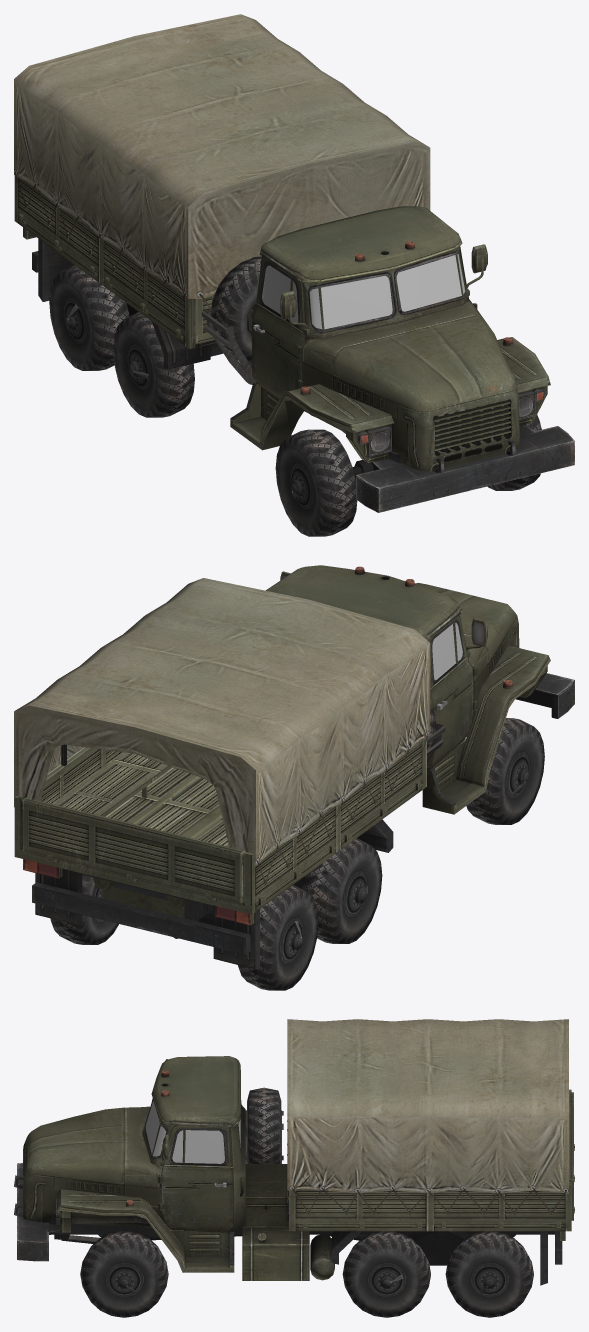
File: ural_4320.glb
The picture shows the model from 3 angles, top to bottom: view 1: azimuth 30°, elevation 25°; view 2: azimuth 150°, elevation 25°; view 3: azimuth 270°, elevation 25°; orthographic projection. The views are drawn at different scales.
Visible parts, largest first — view 1: ural4320.001_2; view 2: ural4320.001_2; view 3: ural4320.001_2.
Part boxes in pixels (<box>): ural4320.001_2: <box>14,14,574,536</box>; ural4320.001_2: <box>14,565,574,990</box>; ural4320.001_2: <box>14,1019,574,1317</box>.
Size of the model in its own units: 2.82 by 3.02 by 6.98.
Materials: 2 (1 with a texture image).
